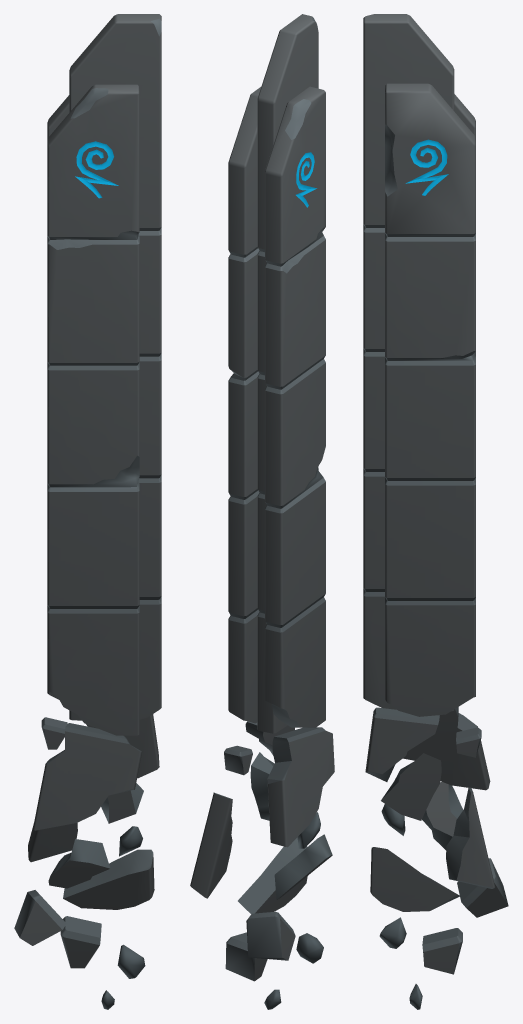
Rendered from pillar_010.glb.
3 views of the same model, side by side, from view 1: azimuth 90°, elevation 25°; view 2: azimuth 150°, elevation 25°; view 3: azimuth 270°, elevation 25° (orthographic). The views are drawn at different scales.
Parts seen in each view (by area): view 1: pillar_010; view 2: pillar_010; view 3: pillar_010.
Boxes of the visible parts, x1,y1,x2,y2 form: pillar_010: (14,14,161,1009); pillar_010: (190,14,334,1009); pillar_010: (363,14,508,1009).
Size of the model in its own units: 7.08 by 55.78 by 7.46.
2 materials, 2 textured.
